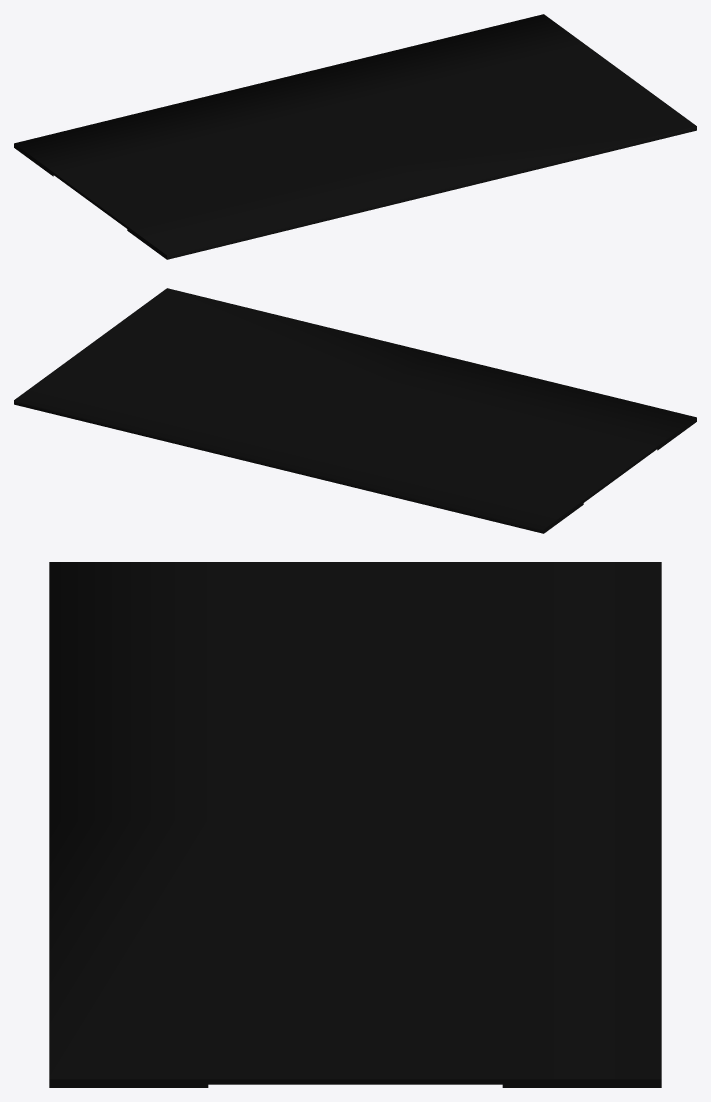
Rendered from side walk.FBX.
3 views of the same model, one above another, from view 1: azimuth 30°, elevation 25°; view 2: azimuth 150°, elevation 25°; view 3: azimuth 270°, elevation 25° (orthographic). The views are drawn at different scales.
Visible parts, largest first — view 1: Box001; view 2: Box001; view 3: Box001.
Part boxes in pixels (box(x1,y1,x2,y2)): Box001: box(14, 14, 696, 259); Box001: box(14, 288, 696, 533); Box001: box(49, 562, 661, 1087).
Bounding box in the file's own units: 97.89 × 0.7711 × 49.
